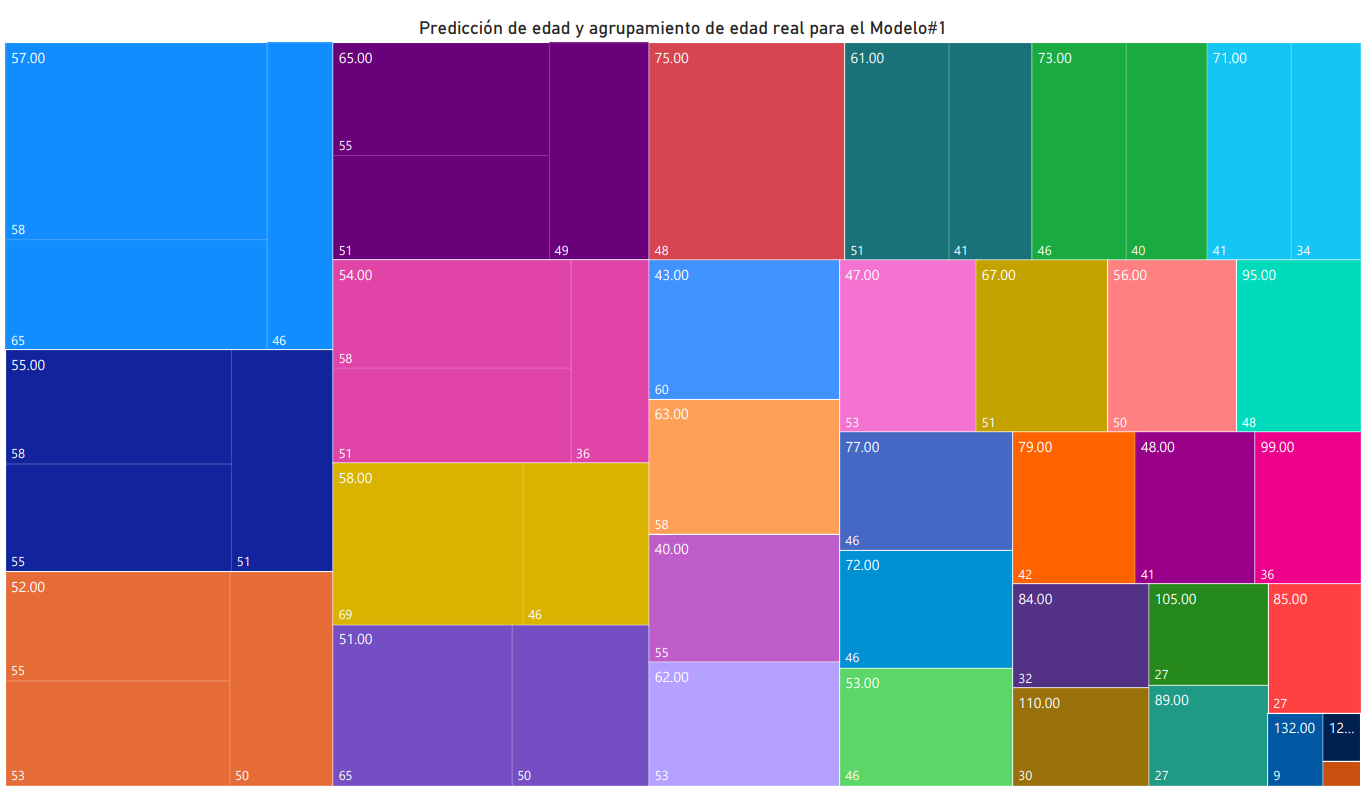

This screenshot's page, from the dashboard's own definition file:
{"tool":"powerbi","page":{"name":"TreeMapModel1","canvas":[1280,720],"ordinal":6},"visuals":[{"type":"treemap","title":"Predicción de edad y agrupamiento de edad real para el Modelo#1","fields":{"Group":["dataModelos (2).predMod1"],"Values":["Sum(dataModelos (2).edadMod1)"],"Details":["dataModelos (2).edadMod1"]},"box":[9.8,0,1270.2,720],"z":0}]}

Visuals, with their boxes on the page's 1280x720 design canvas (x1, y1, x2, y2). These are canvas units, not pixel positions in the 1366x798 screenshot, which may show the page scaled, cropped or inside an application window:
"Predicción de edad y agrupamiento de edad real para el Modelo#1" treemap: bbox(10, 0, 1280, 720)
